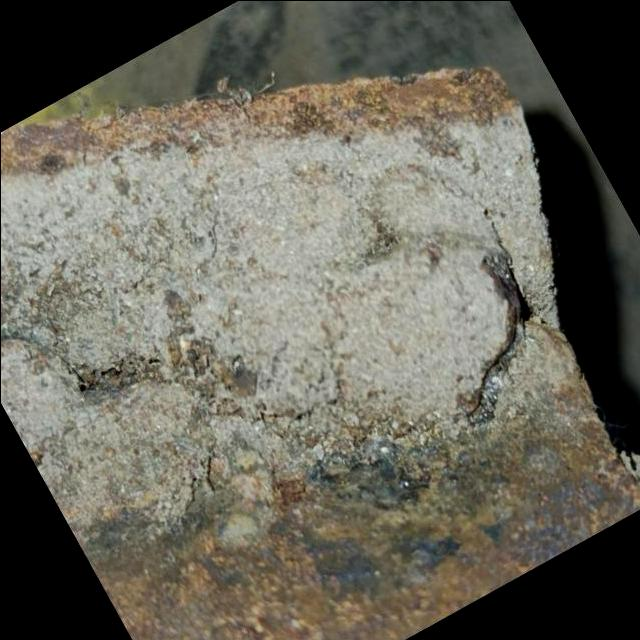defect: (459, 215, 536, 427)
